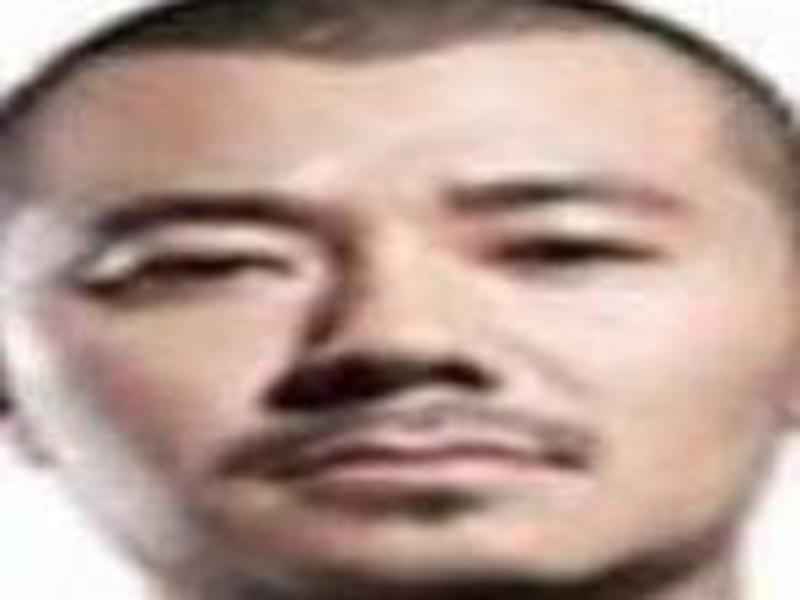without_mask: (6, 51, 780, 580)
